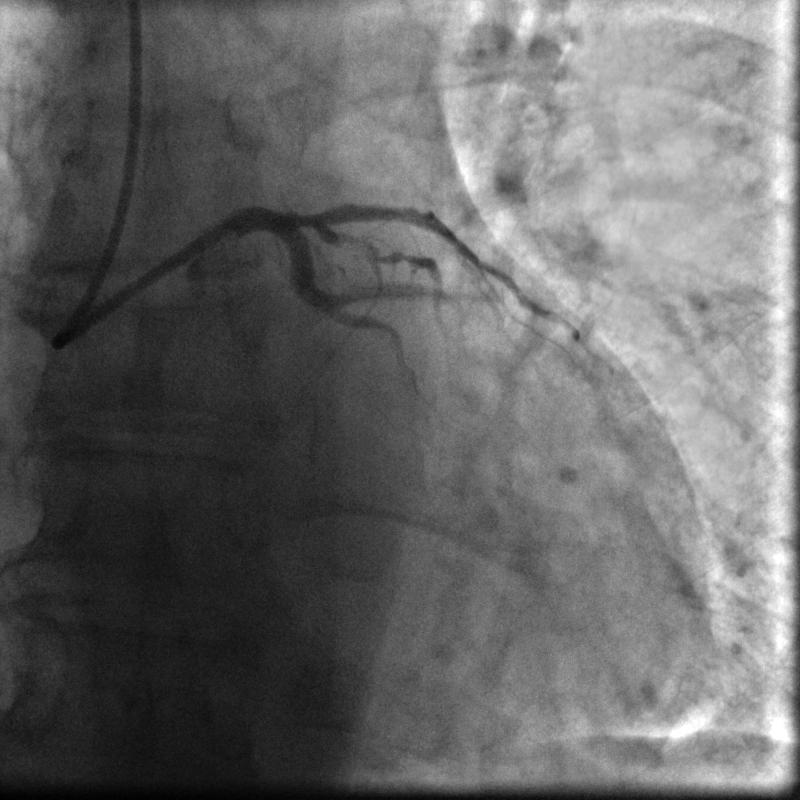Stenosis: (332, 224, 400, 271)
